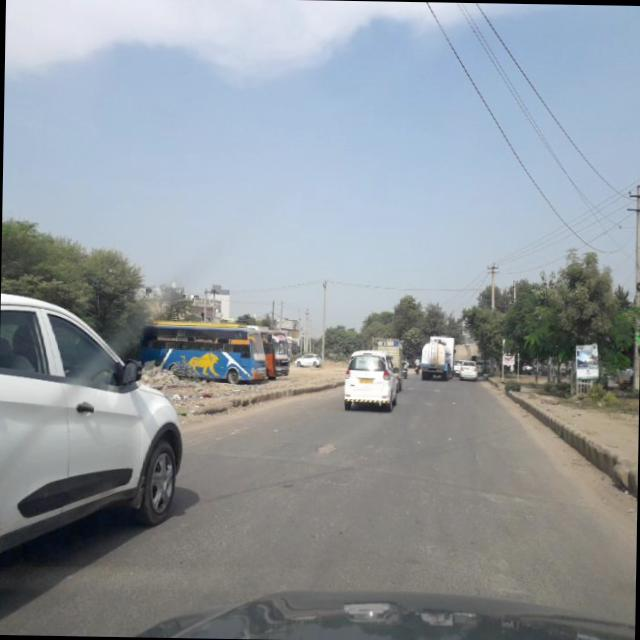crack: (202, 449, 558, 504)
pothole: (312, 435, 342, 461), (491, 556, 521, 582)
